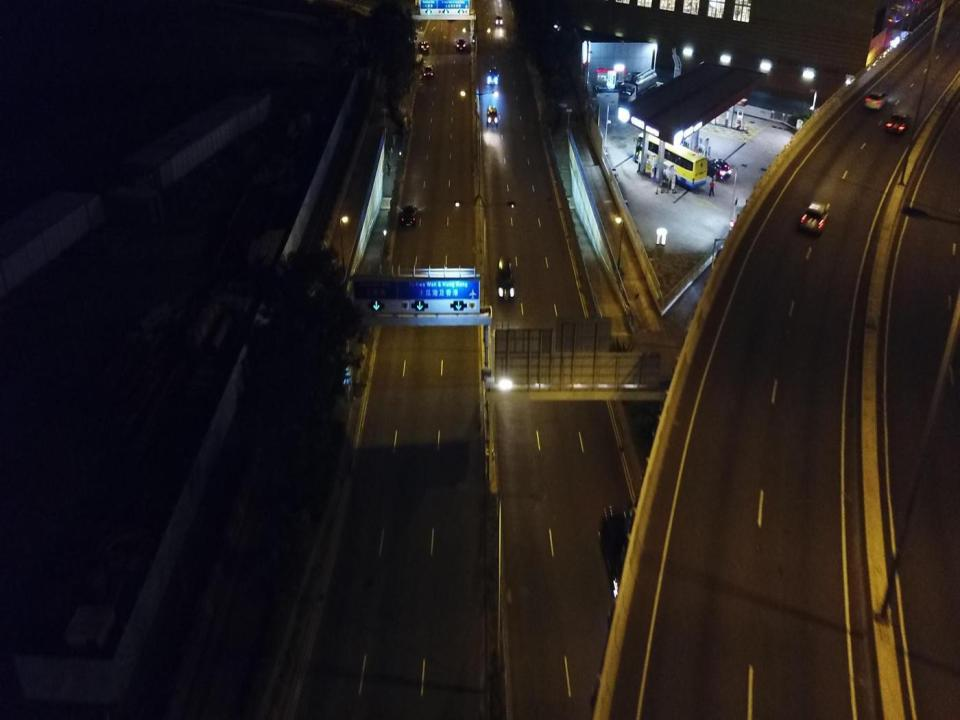bus: (634, 133, 708, 190)
car: (598, 506, 660, 639), (800, 201, 830, 236), (496, 256, 514, 300), (698, 159, 732, 182), (885, 112, 911, 134), (865, 90, 889, 110), (400, 204, 417, 224), (485, 105, 498, 126), (487, 66, 499, 85), (456, 38, 466, 52), (418, 41, 430, 52), (424, 63, 432, 77), (495, 14, 503, 26)
truck: (618, 68, 659, 109)
